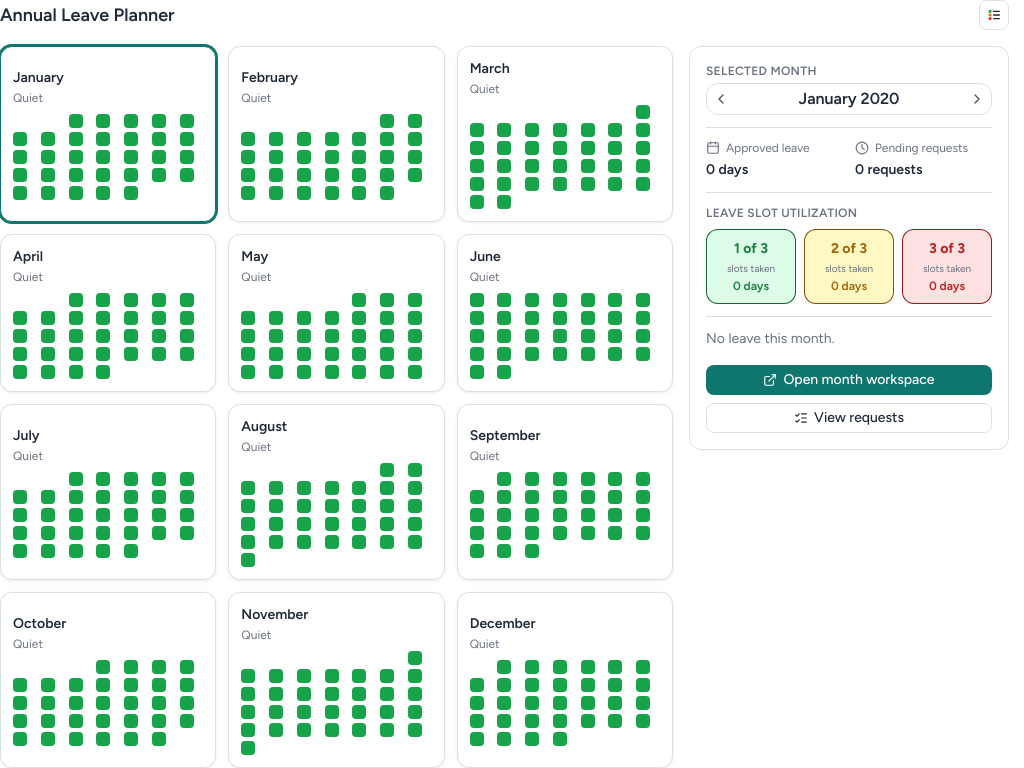
AnnualPlannerOverview — non-admin mobile category finder › the Selected month panel label opens a jump-to-month sheet, same as the shared DateStepper elsewhere
What coordinates should you click on to do the following:
click the button "January 2020"
I would click on:
 (849, 99)
Its box is [735,87,963,111].
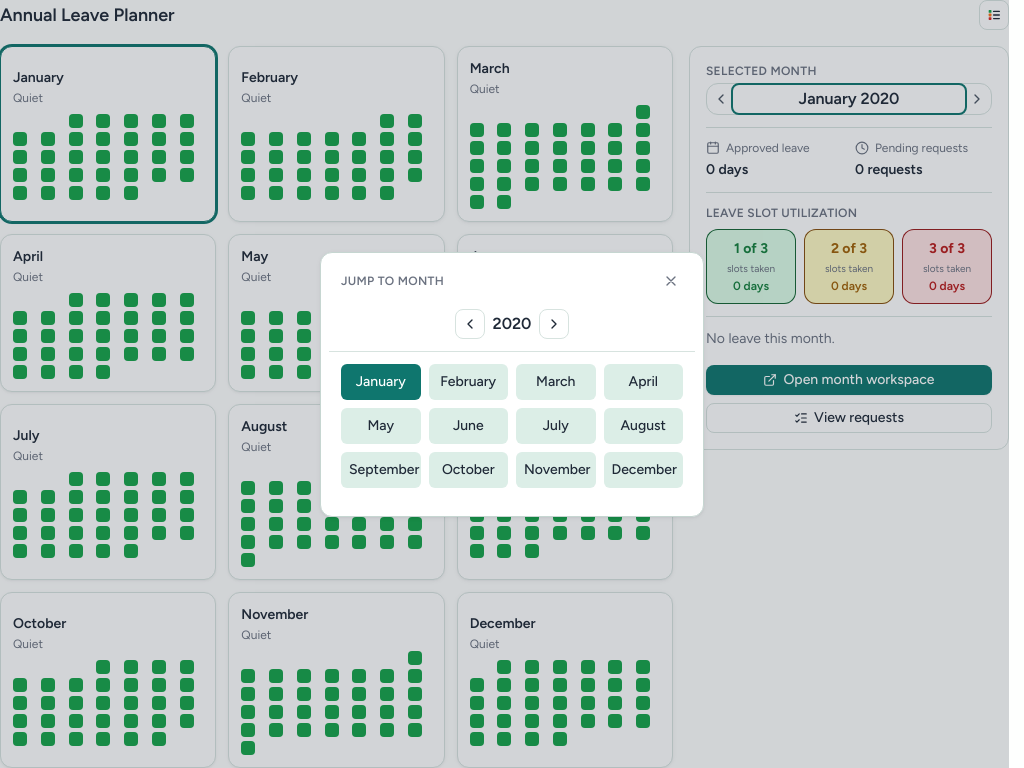
What coordinates should you click on to do the following:
click the button "November"
I would click on:
 (556, 470)
Its box is [516,452,596,488].
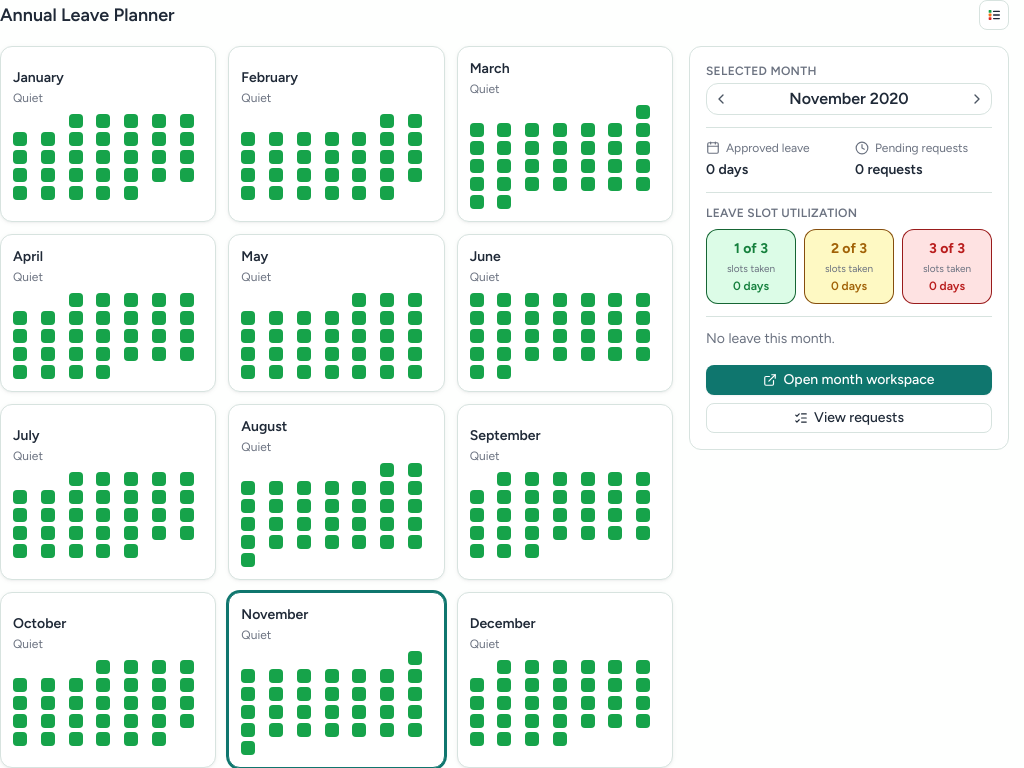
Expected: the button "November 2020" is shown, [735,87,963,111]
